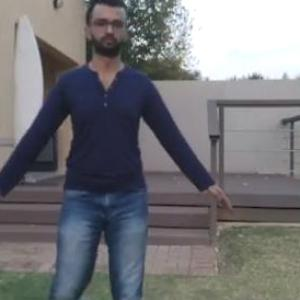land: (1, 19, 216, 299)
